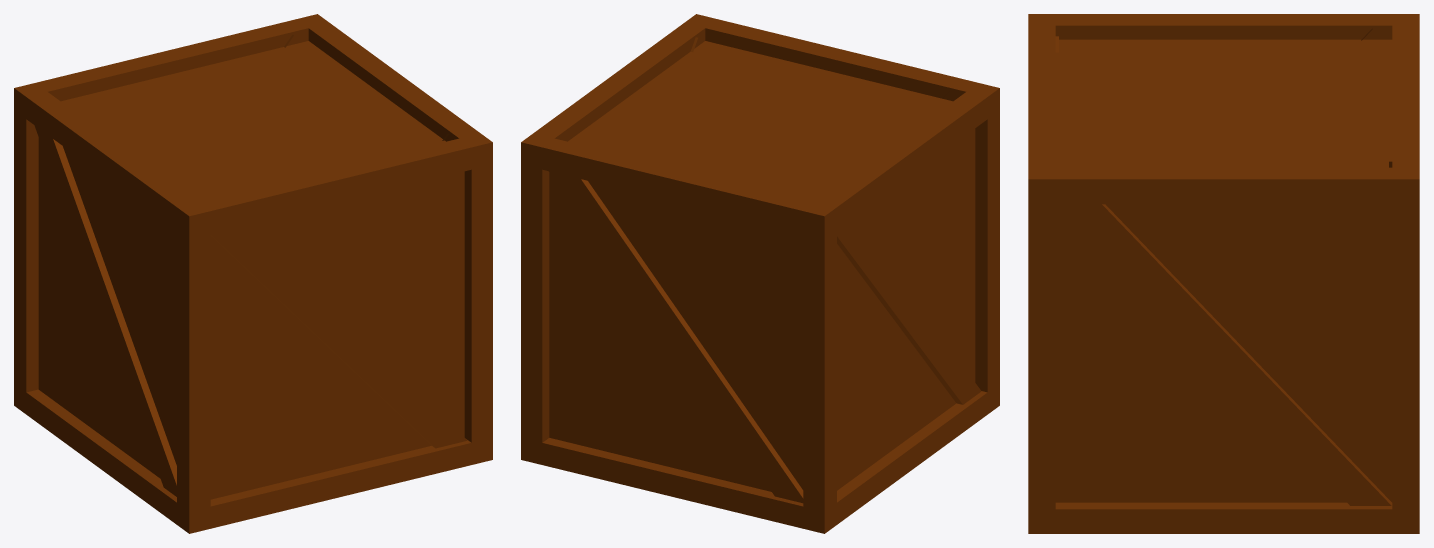
File: Caja_Buena.fbx
3 renders of one model, left to right at view 1: azimuth 30°, elevation 25°; view 2: azimuth 150°, elevation 25°; view 3: azimuth 270°, elevation 25°, orthographic. The views are drawn at different scales.
Visible parts, largest first — view 1: Object021; view 2: Object021; view 3: Object021.
Part boxes in pixels (bbox=[...]): Object021: bbox=[14, 14, 492, 533]; Object021: bbox=[521, 14, 999, 533]; Object021: bbox=[1028, 14, 1419, 533].
Bounding box in the file's own units: 50 × 50 × 50.
